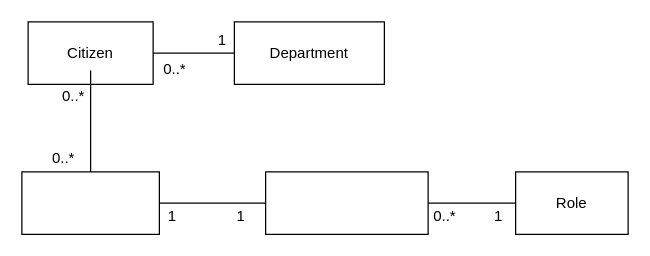
The diagram is 650 pixels wide and 256 high, and some of its shapes have lost their labels. The centre of each missing label's shape, as x and y in pixels:
Employees: the point at 90,202
IdentityUser: the point at 346,202
